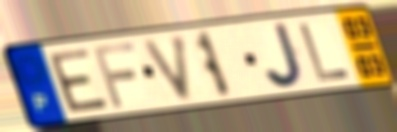1: (192, 28, 236, 101)
E: (45, 46, 112, 115)
F: (90, 40, 139, 110)
J: (261, 19, 308, 91)
L: (296, 21, 354, 84)
V: (140, 31, 193, 104)
